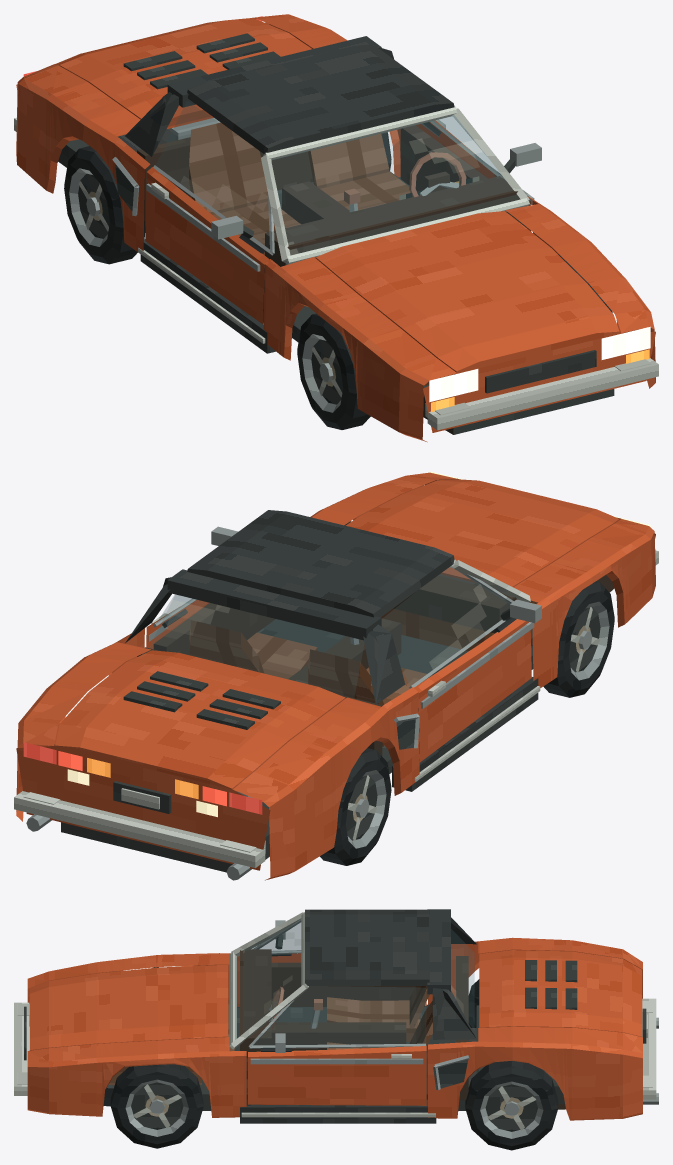
Rendered from torrel-1968.glb.
The picture shows the model from 3 angles, top to bottom: view 1: azimuth 30°, elevation 25°; view 2: azimuth 150°, elevation 25°; view 3: azimuth 270°, elevation 25°; orthographic projection. The views are drawn at different scales.
Parts seen in each view (by area): view 1: body, Lift-off bonnet, door_r, Removable targa shell, Mid-engine deck lid, wheel_rr, wheel_fr, door_l, steering_wheel, light_head_l, light_head_r; view 2: body, Mid-engine deck lid, door_r, Removable targa shell, Lift-off bonnet, wheel_fr, wheel_rr, door_l, Engine cover louvre.005, Engine cover louvre.002; view 3: body, door_l, Lift-off bonnet, Mid-engine deck lid, Removable targa shell, wheel_rl, wheel_fl, door_r, wheel_rr.
Part boxes in pixels (x1,y1,x2,y2): body: (14, 14, 658, 442); Lift-off bonnet: (315, 211, 619, 374); door_r: (145, 101, 274, 324); Removable targa shell: (187, 44, 454, 153); Mid-engine deck lid: (55, 18, 311, 128); wheel_rr: (64, 146, 145, 264); wheel_fr: (297, 313, 370, 429); door_l: (400, 114, 541, 231); steering_wheel: (409, 152, 466, 197); light_head_l: (601, 326, 650, 359); light_head_r: (429, 369, 478, 402); body: (14, 472, 658, 880); Mid-engine deck lid: (55, 650, 345, 791); door_r: (382, 567, 541, 762); Removable targa shell: (187, 510, 454, 617); Lift-off bonnet: (345, 479, 619, 587); wheel_fr: (543, 581, 614, 697); wheel_rr: (320, 748, 391, 865); door_l: (146, 526, 275, 654); Engine cover louvre.005: (123, 691, 182, 712); Engine cover louvre.002: (196, 709, 254, 729); body: (14, 909, 658, 1123); door_l: (248, 986, 426, 1105); Lift-off bonnet: (29, 965, 228, 1050); Mid-engine deck lid: (479, 950, 642, 1036); Removable targa shell: (305, 909, 429, 985); wheel_rl: (465, 1061, 558, 1150); wheel_fl: (110, 1064, 203, 1148); door_r: (252, 919, 426, 1006); wheel_rr: (468, 979, 479, 1027).
Size of the model in its own units: 1.89 by 1.13 by 4.2.
5 materials, 5 textured.
